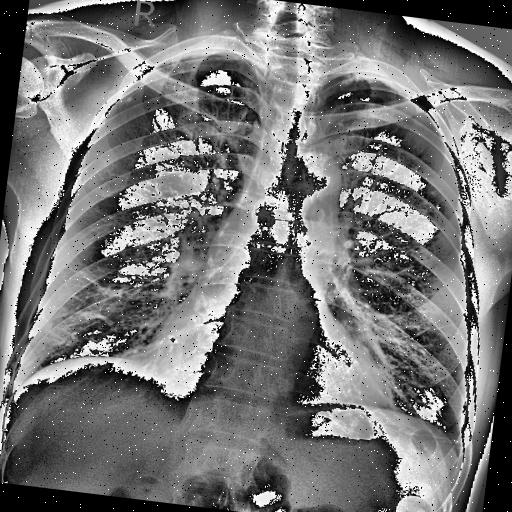0- Aortic enlargement: (270, 148, 347, 226), (288, 150, 346, 208)
11- Pleural thickening: (156, 40, 246, 76), (176, 46, 266, 80), (181, 42, 262, 72), (340, 66, 408, 100), (340, 66, 416, 96), (344, 70, 414, 97)
13- Pulmonary fibrosis: (56, 262, 128, 352), (202, 60, 242, 152), (204, 60, 238, 142)
8- Nodule-Mass: (125, 96, 133, 104)
